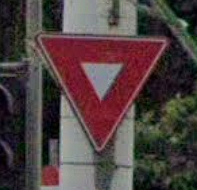cedeaza: (34, 30, 173, 159)
